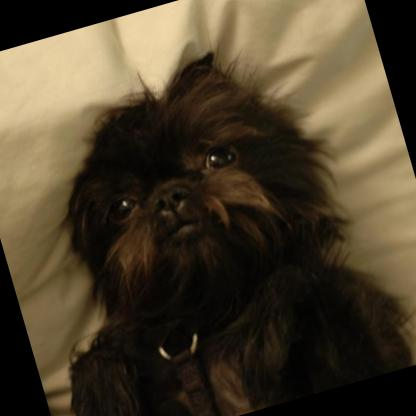affenpinscher: (0, 15, 416, 416)
